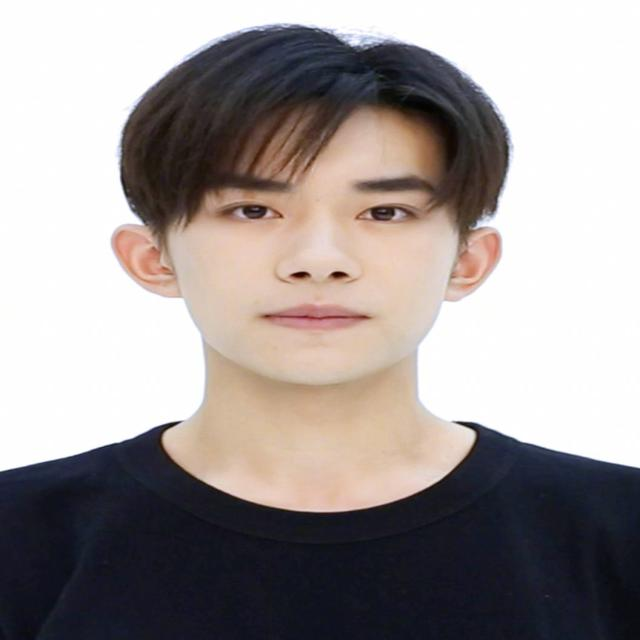Open: (218, 200, 284, 222), (356, 202, 420, 224)
